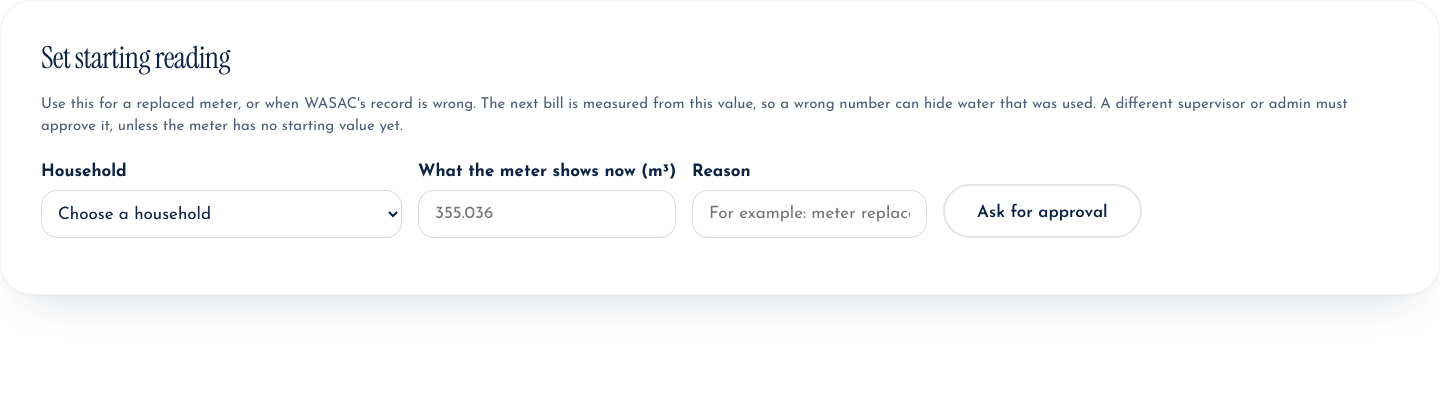
MeterCorrection › when the correction is saved, should confirm it and refresh the list
Select "DEMO Household 001 · DEMO-MTR-001" in the dropdown labelled "Household" at [222, 214], box [41,190,402,238]
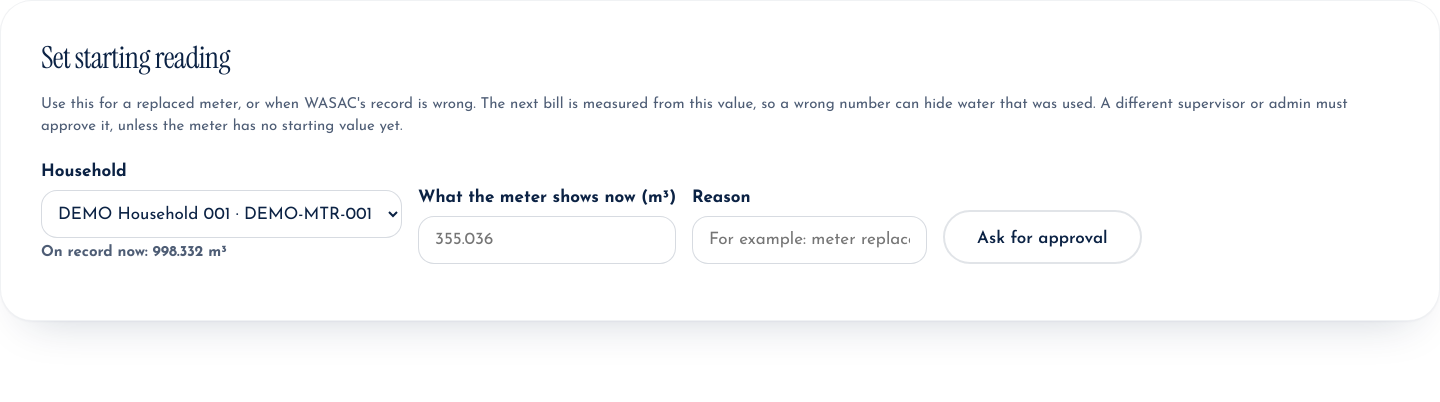
Type "355,036" into the field labelled "What the meter shows now (m³)" at [547, 240], box [418,216,676,264]
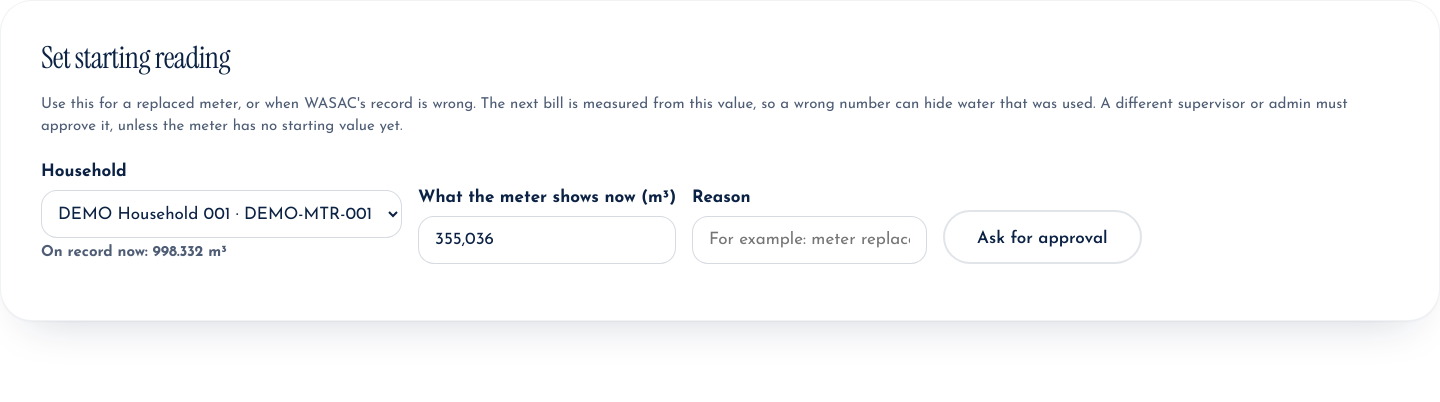
Type "Meter replaced" into the field labelled "Reason" at [810, 240], box [692,216,927,264]
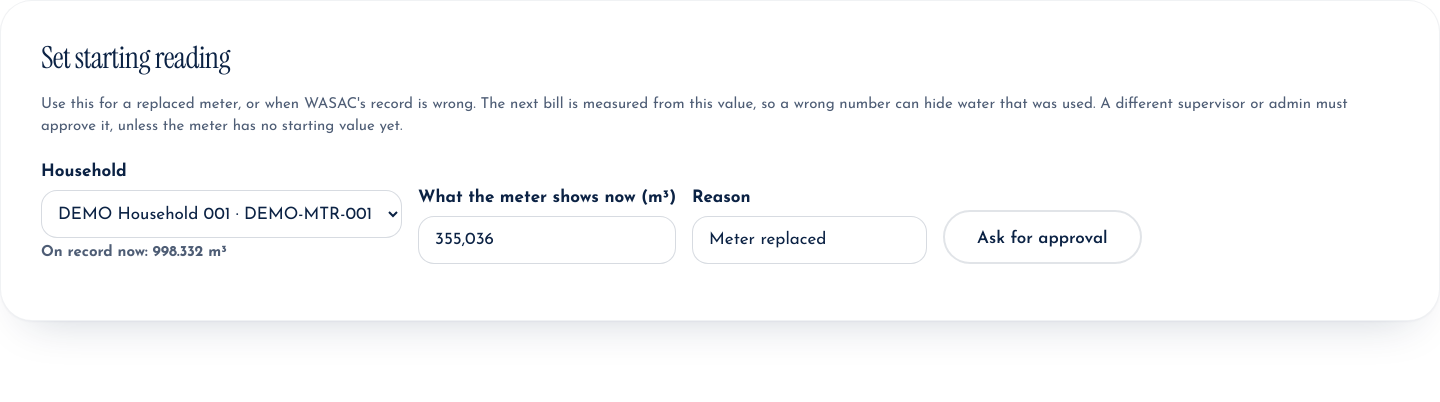
Click the button "Ask for approval" at [1042, 237], box [943,210,1142,264]
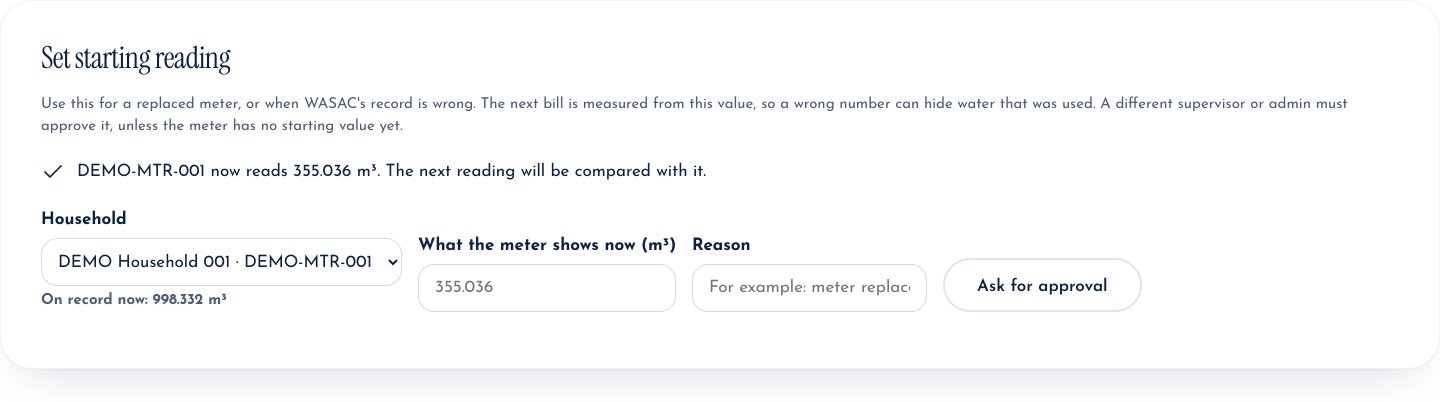
Expected: the text "DEMO-MTR-001 now reads 355.036 m³" is shown, [77,163,706,180]
